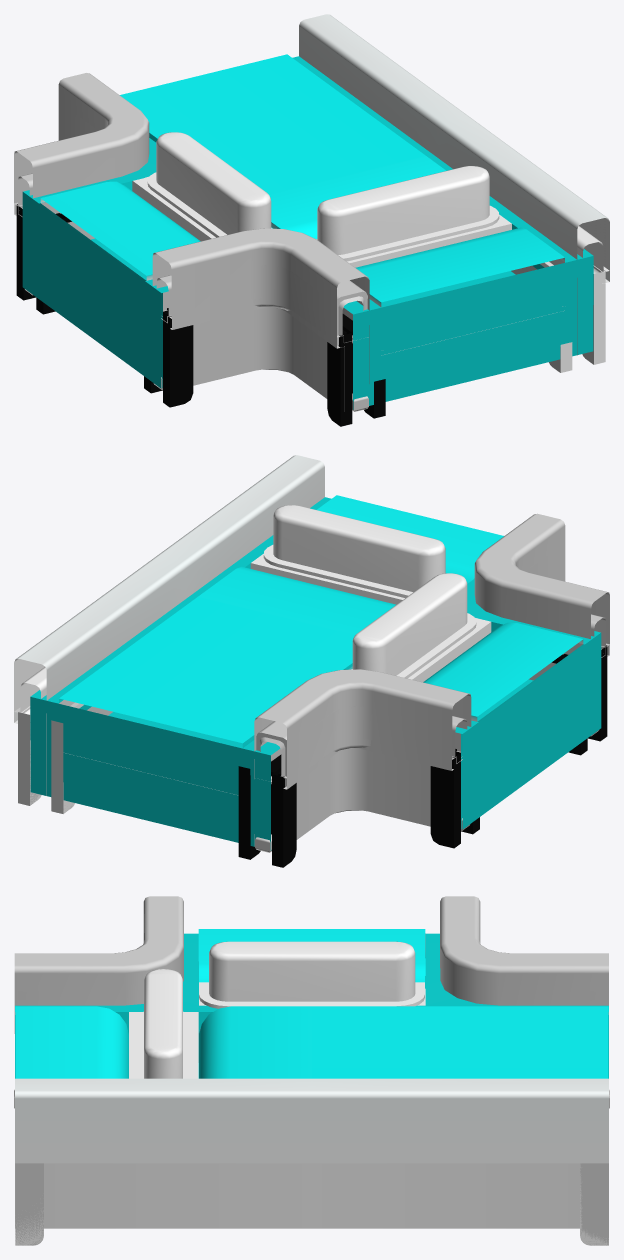
Rendered from Merger2To1LInternalVariant.gltf.
3 views of the same model, one above another, from view 1: azimuth 30°, elevation 25°; view 2: azimuth 150°, elevation 25°; view 3: azimuth 270°, elevation 25° (orthographic). The views are drawn at different scales.
Visible parts, largest first — view 1: Merger_DefaultBorder_Layer0_LOD0.001, Merger_2to1Left_Belt_LOD0, Merger_DefaultBorder_Layer1_LOD0.001, Merger_TBorder_Layer0_LOD0.001, Merger_Default_Stopper_LOD0, Merger_Default_Stopper_LOD0.001, Merger_DefaultBorder_Layer2_LOD0.001, Merger_TBorder_Layer1_LOD0.001, Merger_TBorder_Layer2_LOD0.001; view 2: Merger_DefaultBorder_Layer0_LOD0.001, Merger_2to1Left_Belt_LOD0, Merger_DefaultBorder_Layer1_LOD0.001, Merger_TBorder_Layer0_LOD0.001, Merger_Default_Stopper_LOD0, Merger_Default_Stopper_LOD0.001, Merger_DefaultBorder_Layer2_LOD0.001, Merger_TBorder_Layer1_LOD0.001, Merger_TBorder_Layer2_LOD0.001; view 3: Merger_TBorder_Layer0_LOD0.001, Merger_2to1Left_Belt_LOD0, Merger_DefaultBorder_Layer1_LOD0.001, Merger_Default_Stopper_LOD0.001, Merger_DefaultBorder_Layer0_LOD0.001, Merger_Default_Stopper_LOD0, Merger_TBorder_Layer1_LOD0.001, Merger_DefaultBorder_Layer2_LOD0.001.
Boxes of the visible parts, left/top/right/bottom form: Merger_DefaultBorder_Layer0_LOD0.001: left=14, top=56, right=593, bottom=411; Merger_2to1Left_Belt_LOD0: left=40, top=54, right=564, bottom=306; Merger_DefaultBorder_Layer1_LOD0.001: left=14, top=56, right=608, bottom=426; Merger_TBorder_Layer0_LOD0.001: left=299, top=14, right=609, bottom=355; Merger_Default_Stopper_LOD0: left=317, top=166, right=489, bottom=254; Merger_Default_Stopper_LOD0.001: left=156, top=132, right=271, bottom=234; Merger_DefaultBorder_Layer2_LOD0.001: left=18, top=57, right=584, bottom=355; Merger_TBorder_Layer1_LOD0.001: left=540, top=218, right=609, bottom=372; Merger_TBorder_Layer2_LOD0.001: left=577, top=226, right=603, bottom=273; Merger_DefaultBorder_Layer0_LOD0.001: left=30, top=497, right=609, bottom=850; Merger_2to1Left_Belt_LOD0: left=59, top=495, right=583, bottom=747; Merger_DefaultBorder_Layer1_LOD0.001: left=14, top=497, right=609, bottom=867; Merger_TBorder_Layer0_LOD0.001: left=14, top=455, right=324, bottom=795; Merger_Default_Stopper_LOD0: left=273, top=505, right=445, bottom=592; Merger_Default_Stopper_LOD0.001: left=352, top=573, right=467, bottom=675; Merger_DefaultBorder_Layer2_LOD0.001: left=31, top=497, right=605, bottom=795; Merger_TBorder_Layer1_LOD0.001: left=14, top=659, right=83, bottom=813; Merger_TBorder_Layer2_LOD0.001: left=20, top=667, right=46, bottom=714; Merger_TBorder_Layer0_LOD0.001: left=15, top=1078, right=608, bottom=1228; Merger_2to1Left_Belt_LOD0: left=15, top=929, right=608, bottom=1078; Merger_DefaultBorder_Layer1_LOD0.001: left=14, top=896, right=609, bottom=1245; Merger_Default_Stopper_LOD0.001: left=209, top=941, right=415, bottom=1001; Merger_DefaultBorder_Layer0_LOD0.001: left=15, top=896, right=608, bottom=1027; Merger_Default_Stopper_LOD0: left=144, top=969, right=182, bottom=1078; Merger_TBorder_Layer1_LOD0.001: left=15, top=1163, right=608, bottom=1245; Merger_DefaultBorder_Layer2_LOD0.001: left=15, top=934, right=608, bottom=1078.
Bounding box in the file's own units: 0.7874 × 0.3093 × 1.
